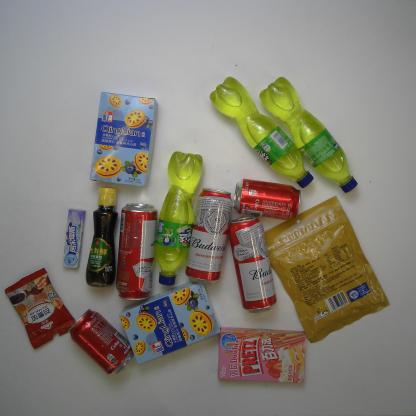Alcohol: (226, 216, 276, 316), (186, 186, 233, 282), (116, 204, 158, 301)
Candy: (61, 208, 85, 270)
Dessert: (120, 282, 221, 364), (88, 90, 157, 187), (216, 326, 307, 387)
Dried Fruit: (263, 195, 389, 344)
Drink: (258, 76, 360, 194), (210, 75, 313, 189), (157, 152, 203, 286), (67, 308, 136, 376), (233, 177, 302, 221)
Instant Drink: (4, 266, 76, 350)
Seasoner: (86, 187, 118, 288)
